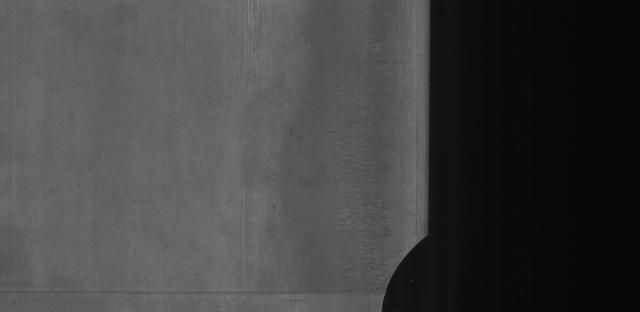welding_line: (0, 280, 397, 304)
